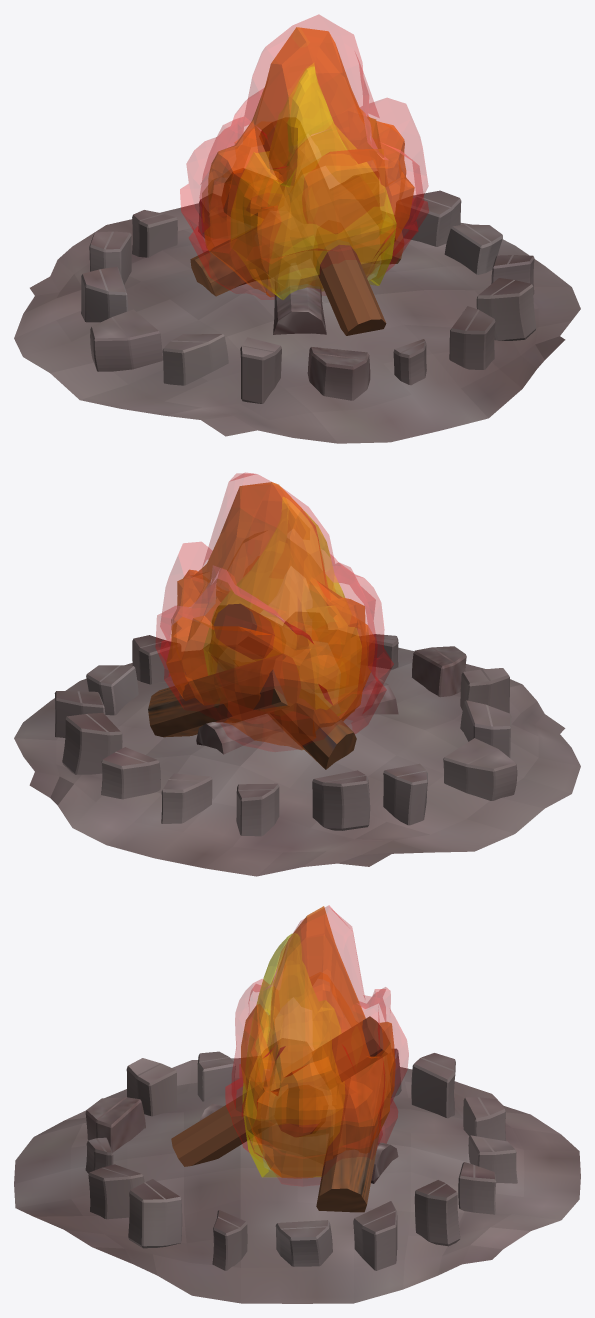
The model's file is CampFire.fbx.
The picture shows the model from 3 angles, top to bottom: view 1: azimuth 30°, elevation 25°; view 2: azimuth 150°, elevation 25°; view 3: azimuth 270°, elevation 25°; orthographic projection.
Visible parts, largest first — view 1: Botoom, polySurface5, polySurface3, polySurface4, wood; view 2: Botoom, polySurface5, polySurface3, wood, polySurface4; view 3: Botoom, polySurface5, polySurface3, wood, polySurface4.
Boxes of the visible parts, left/top/right/bottom form: Botoom: left=14, top=171, right=580, bottom=443; polySurface5: left=180, top=14, right=428, bottom=299; polySurface3: left=202, top=27, right=414, bottom=297; polySurface4: left=231, top=63, right=396, bottom=299; wood: left=190, top=121, right=404, bottom=335; Botoom: left=14, top=612, right=580, bottom=876; polySurface5: left=155, top=472, right=393, bottom=751; polySurface3: left=166, top=482, right=374, bottom=750; wood: left=148, top=603, right=356, bottom=769; polySurface4: left=203, top=497, right=361, bottom=715; Botoom: left=14, top=1038, right=580, bottom=1303; polySurface5: left=225, top=905, right=408, bottom=1185; polySurface3: left=241, top=906, right=395, bottom=1178; wood: left=171, top=1016, right=391, bottom=1212; polySurface4: left=242, top=933, right=344, bottom=1177.
Bounding box in the file's own units: 286 × 163 × 286.
